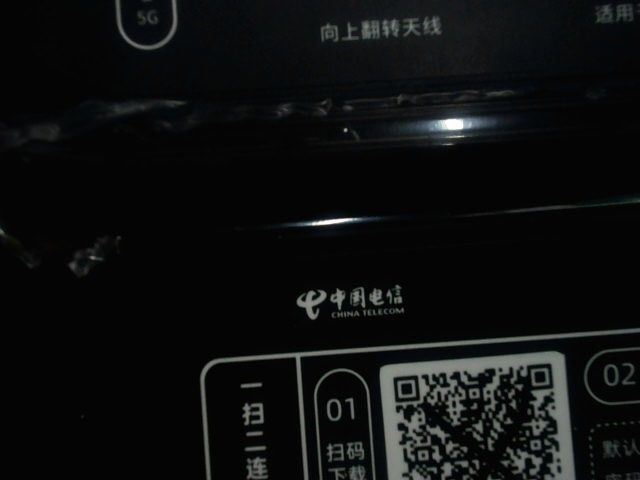AB_ChinaTelecom: (284, 274, 425, 322)
